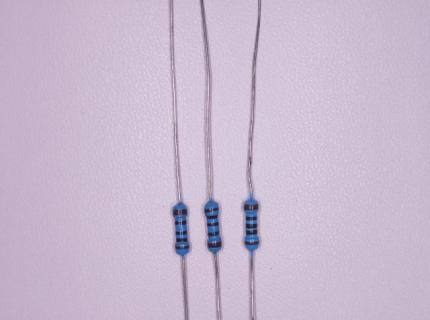Black band: (206, 214, 218, 220), (208, 231, 220, 237), (246, 223, 257, 229), (246, 229, 257, 235), (176, 237, 188, 242), (175, 220, 187, 225), (207, 221, 219, 226), (176, 230, 187, 235), (246, 216, 257, 221)
Brown band: (207, 241, 222, 249), (173, 209, 188, 216), (204, 207, 219, 214), (243, 204, 259, 210), (175, 245, 190, 250), (245, 240, 259, 245)
